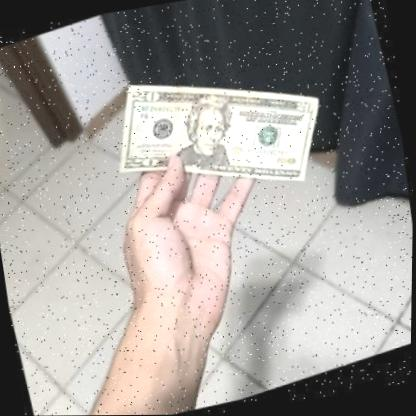twenty-front: (90, 24, 347, 242)
